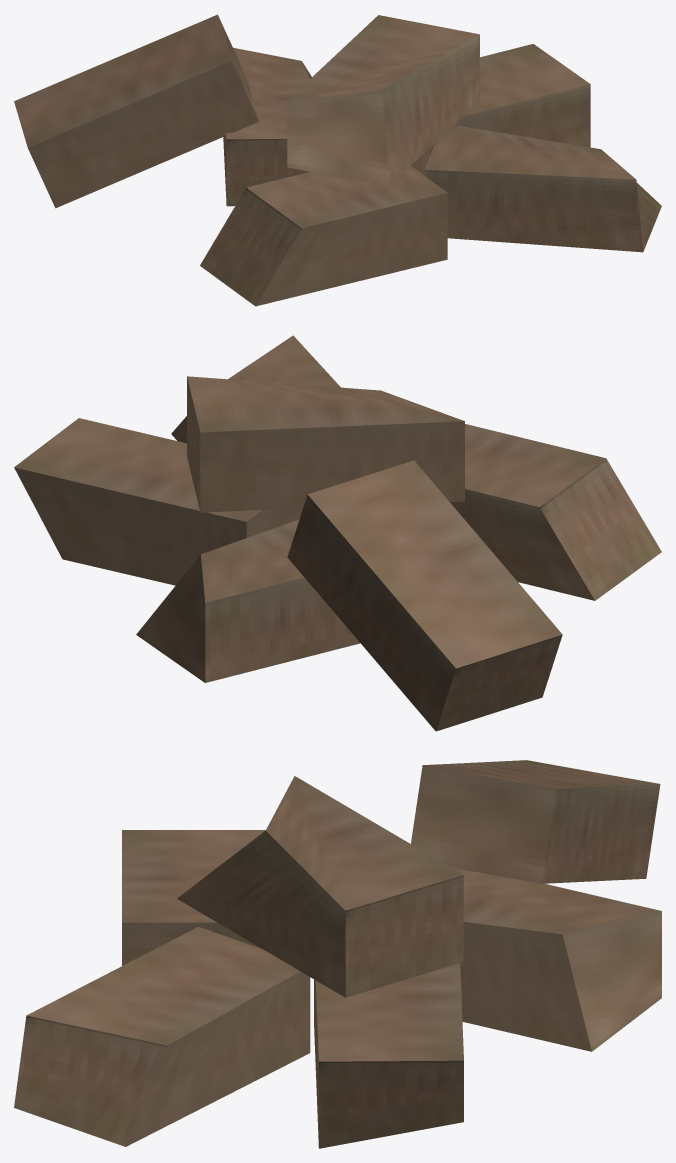
Rendered from bricks.glb.
3 renders of one model, top to bottom at view 1: azimuth 30°, elevation 25°; view 2: azimuth 150°, elevation 25°; view 3: azimuth 270°, elevation 25°, orthographic. The views are drawn at different scales.
Parts seen in each view (by area): view 1: Bricks; view 2: Bricks; view 3: Bricks.
Part boxes in pixels (left/top/right/bottom): Bricks: left=14, top=14, right=661, bottom=306; Bricks: left=14, top=335, right=661, bottom=731; Bricks: left=14, top=760, right=661, bottom=1148.
Bounding box in the file's own units: 0.5188 × 0.1422 × 0.4624.
Materials: 1 (1 with a texture image).
